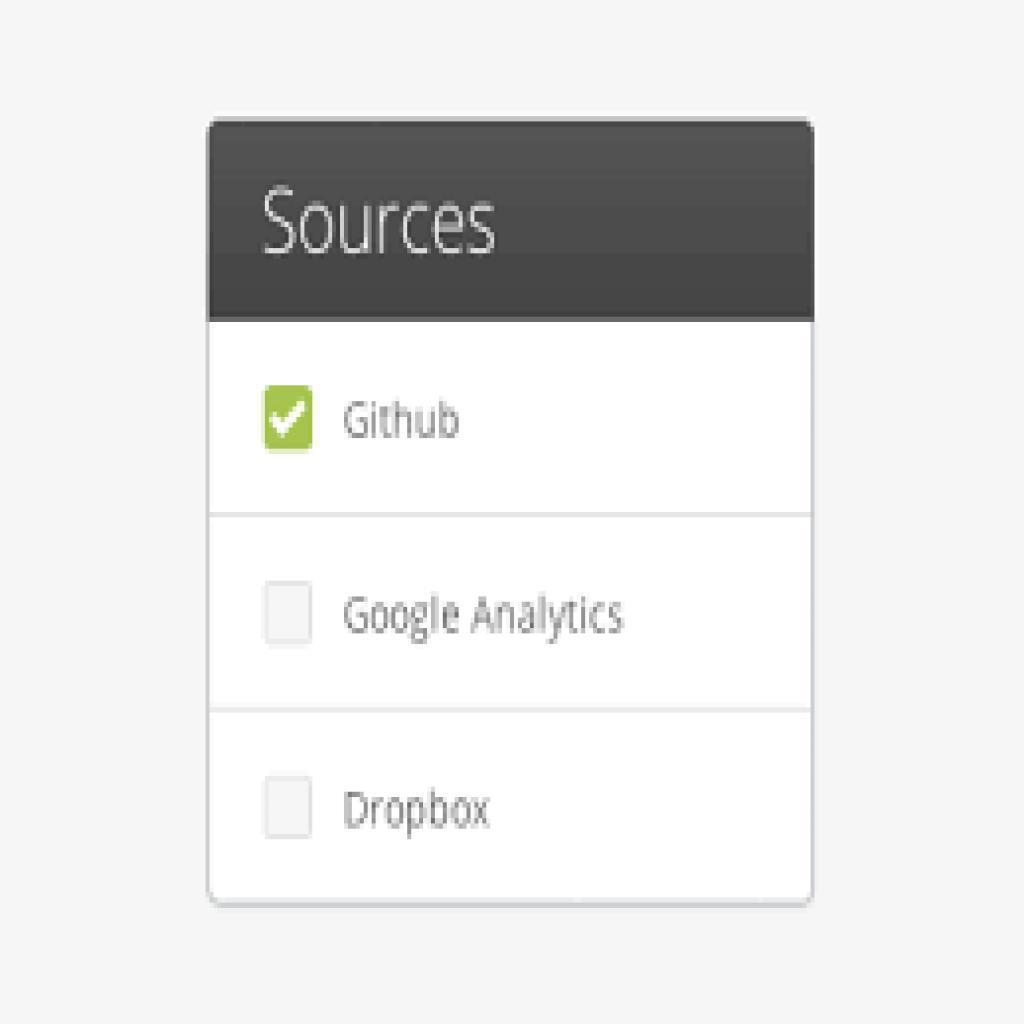checkbox: (261, 581, 314, 647), (265, 384, 314, 453), (263, 776, 312, 839)
label: (340, 590, 626, 645), (340, 783, 491, 841), (336, 394, 468, 447)
